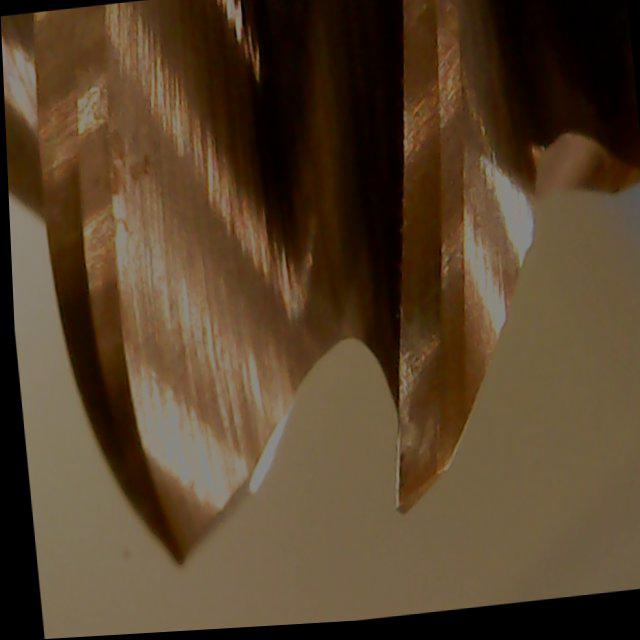Tool-wear-class-0: (352, 190, 486, 533)
